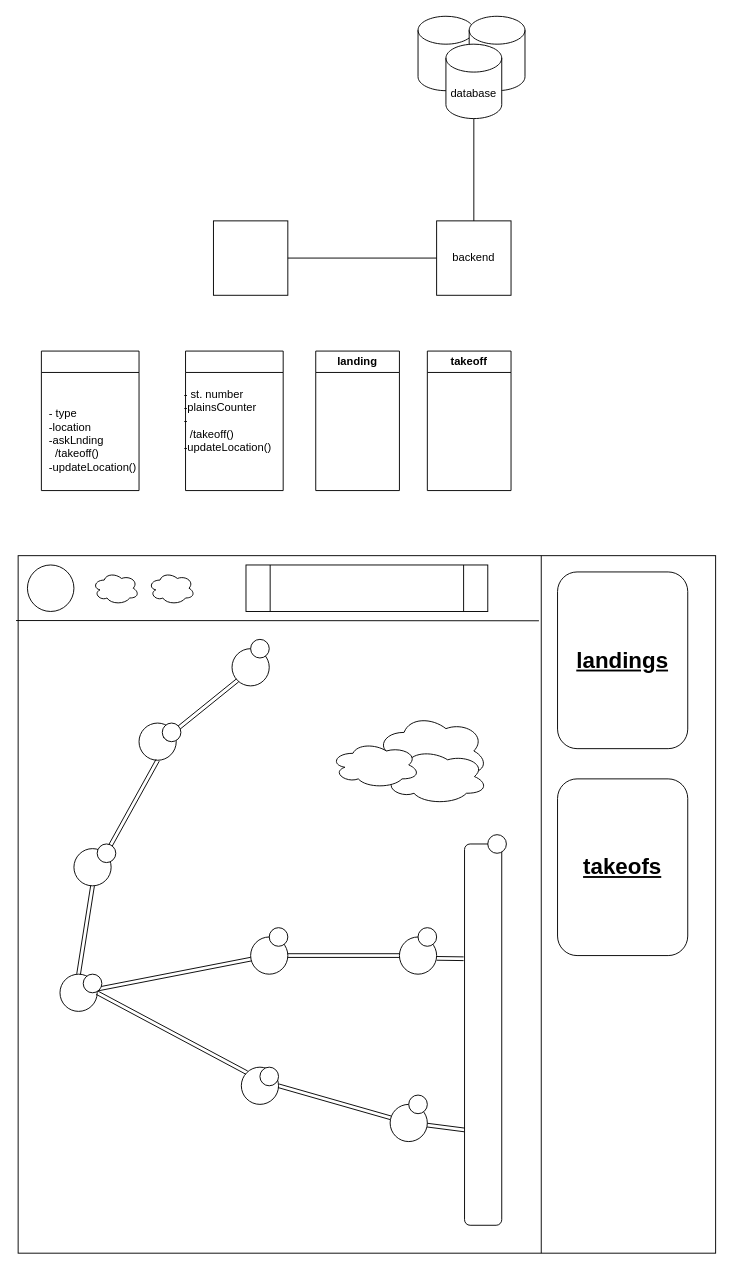
This 733x1270 diagram has some shape labels left out. The box of each missing label's shape, as (x1, y1, x2, y2) in pixels:
frontend: (213, 220, 288, 295)
plain: (40, 350, 139, 491)
station: (185, 350, 283, 491)
